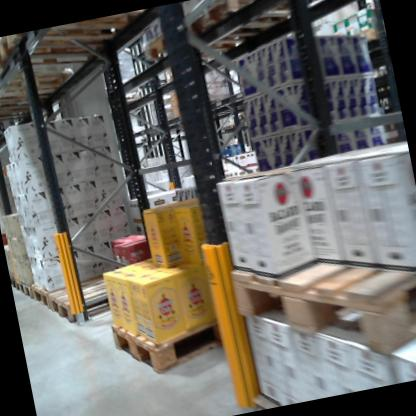pallet: (220, 221, 416, 388), (97, 273, 303, 378), (0, 10, 153, 86), (136, 7, 255, 78), (180, 0, 313, 59), (45, 268, 141, 332), (0, 57, 75, 114), (341, 22, 382, 48), (31, 278, 52, 309), (16, 275, 34, 304), (10, 273, 20, 294)
